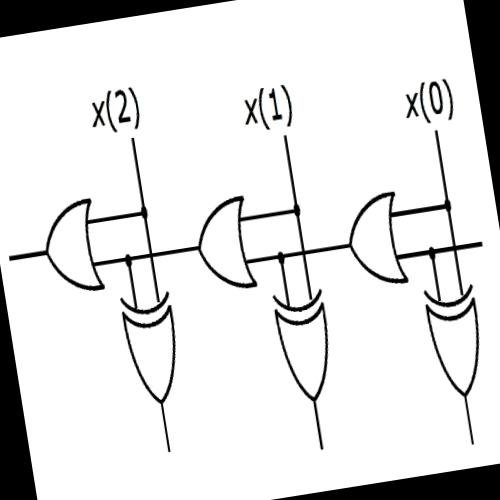or: (184, 188, 262, 302), (31, 190, 109, 304), (336, 184, 412, 296)
xor: (113, 281, 190, 414), (268, 278, 342, 412), (419, 276, 494, 406)
